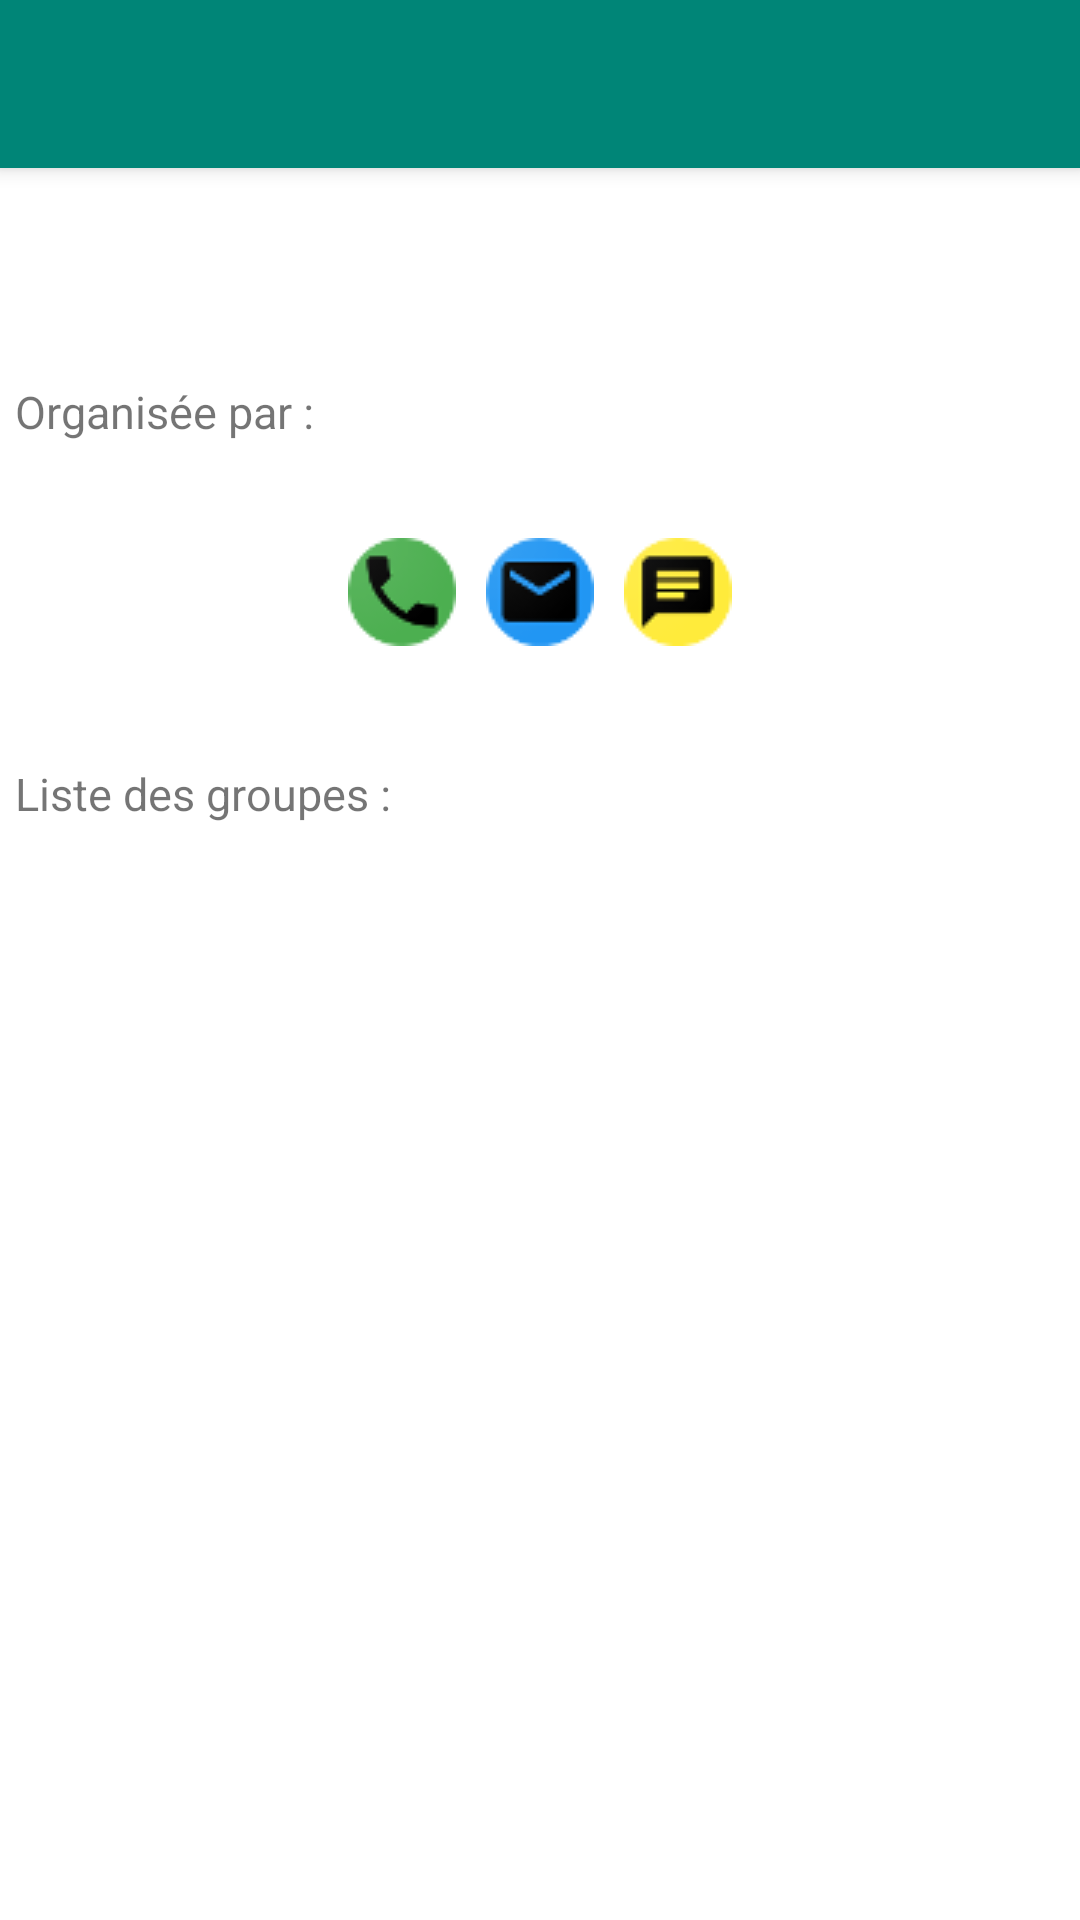

Icon click points for this 1080x1920 phone screenshot, format (x,y):
Message: (678,592)
